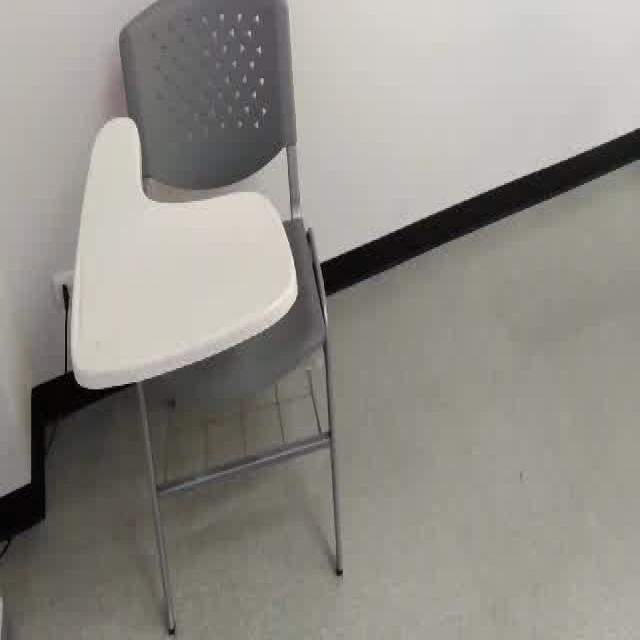chair: (58, 17, 375, 630)
